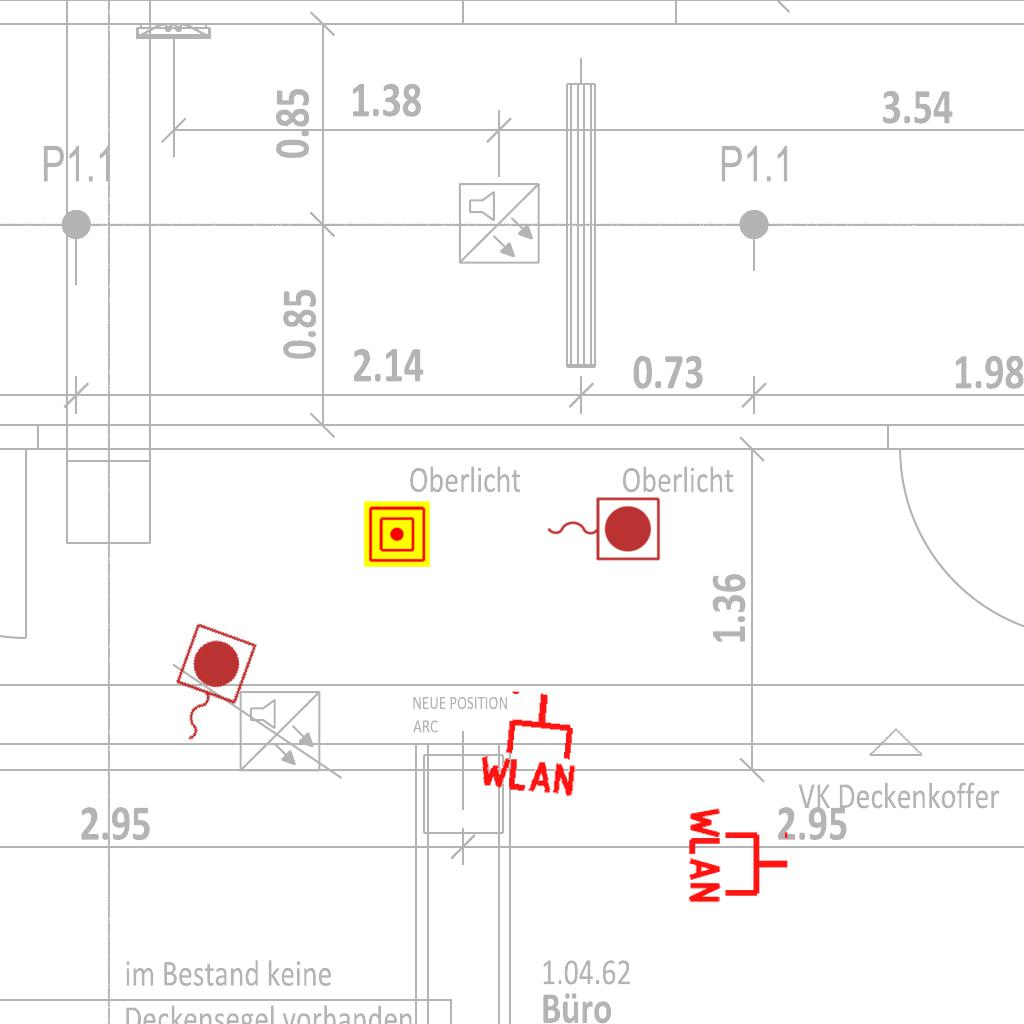NAM-Nichtautomatischer_Melder: (364, 501, 430, 567)
WLAN: (473, 683, 588, 799), (687, 803, 792, 907)
Zugtaster: (152, 617, 262, 757), (542, 492, 664, 564)
